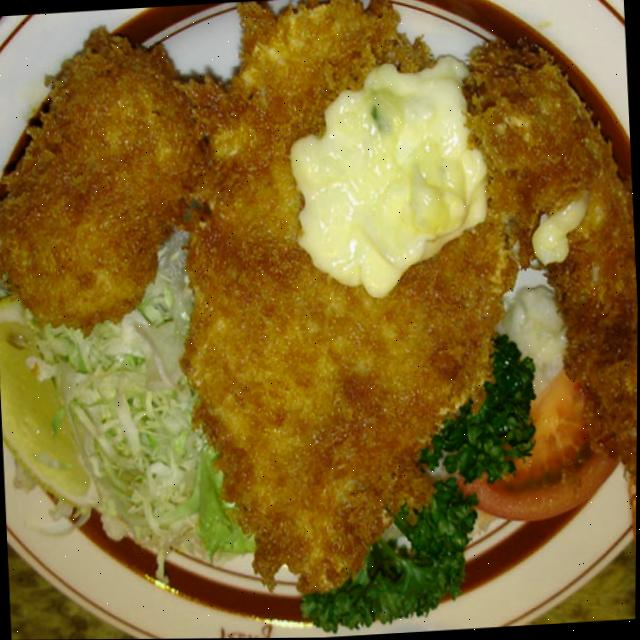炸货点心: (0, 69, 543, 619)
熟制海鲜: (0, 69, 543, 619)
